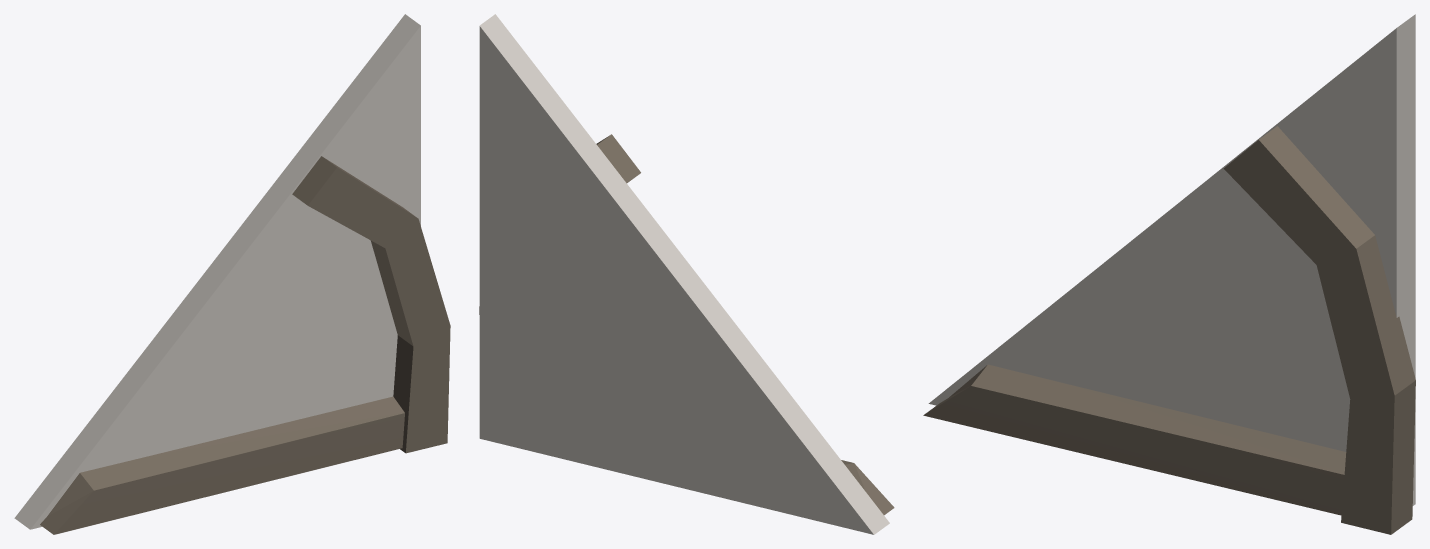
Rendered from _ROOF_TRIANGLE_LEFT_WOOD_1.fbx.
3 renders of one model, left to right at view 1: azimuth 30°, elevation 25°; view 2: azimuth 150°, elevation 25°; view 3: azimuth 330°, elevation 25°, orthographic. The views are drawn at different scales.
Parts seen in each view (by area): view 1: ROOF_TRIANGLE_LEFT_WOOD_1; view 2: ROOF_TRIANGLE_LEFT_WOOD_1; view 3: ROOF_TRIANGLE_LEFT_WOOD_1.
Boxes of the visible parts, x1,y1,x2,y2 form: ROOF_TRIANGLE_LEFT_WOOD_1: (14,14,450,534); ROOF_TRIANGLE_LEFT_WOOD_1: (479,14,894,534); ROOF_TRIANGLE_LEFT_WOOD_1: (923,14,1415,534).
Size of the model in its own units: 104 by 100 by 13.95.
